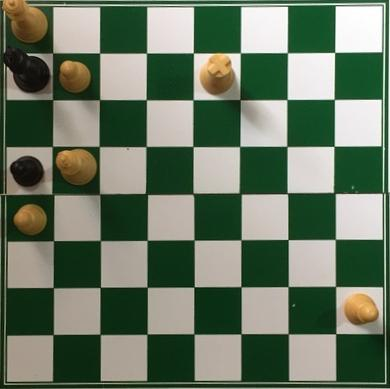black-king: (2, 43, 52, 94)
black-pawn: (10, 153, 46, 189)
white-king: (54, 147, 100, 186)
white-pawn: (343, 291, 381, 327), (58, 57, 94, 95), (12, 202, 49, 238)
white-queen: (2, 1, 51, 47)
white-rook: (199, 51, 235, 95)
